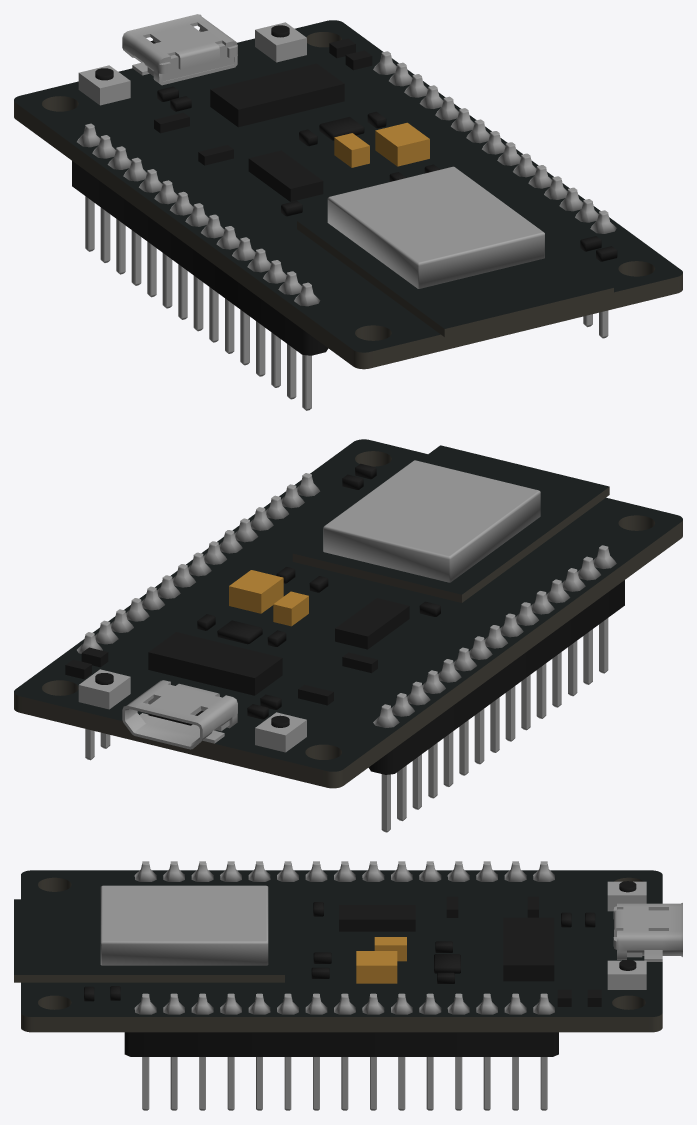
The model's file is lolin_nodemcu_v3.glb.
The picture shows the model from 3 angles, top to bottom: view 1: azimuth 30°, elevation 25°; view 2: azimuth 150°, elevation 25°; view 3: azimuth 270°, elevation 25°; orthographic projection. The views are drawn at different scales.
Parts seen in each view (by area): view 1: board, esp.001, smd, esp, pins, Cube.002, switch.001, switch.002, pin.023, pin.015, pin.026, pin.019 (+12 smaller); view 2: board, esp.001, smd, esp, pins, Cube.002, switch.002, switch.001, pin, pin.021, pin.009, pin.017 (+11 smaller); view 3: board, esp.001, esp, pins.001, smd, Cube.002, switch.002, switch.001, pin.020, pin.001, pin.029, pin.022 (+11 smaller).
Part boxes in pixels (x1,y1,x2,y2): board: (14, 20, 682, 369); esp.001: (327, 166, 544, 288); smd: (154, 38, 617, 261); esp: (297, 213, 613, 337); pins: (72, 161, 328, 355); Cube.002: (122, 14, 237, 85); switch.001: (78, 65, 130, 105); switch.002: (255, 22, 306, 62); pin.023: (123, 157, 146, 285); pin.015: (185, 203, 208, 331); pin.026: (92, 135, 115, 262); pin.019: (154, 180, 177, 308); board: (14, 439, 682, 788); esp.001: (323, 460, 540, 582); smd: (65, 463, 440, 719); esp: (292, 445, 609, 602); pins: (368, 580, 624, 774); Cube.002: (122, 680, 237, 749); switch.002: (78, 669, 130, 709); switch.001: (255, 712, 306, 752); pin: (373, 704, 399, 832); pin.021: (438, 659, 461, 786); pin.009: (531, 591, 554, 718); pin.017: (469, 636, 492, 764); board: (21, 870, 662, 1032); esp.001: (100, 885, 268, 965); esp: (14, 899, 284, 982); pins.001: (124, 1032, 558, 1056); smd: (84, 896, 601, 1006); Cube.002: (613, 903, 682, 961); switch.002: (607, 960, 646, 989); switch.001: (607, 881, 646, 911); pin.020: (419, 993, 441, 1110); pin.001: (134, 993, 156, 1110); pin.029: (533, 993, 554, 1110); pin.022: (447, 993, 469, 1110).
Size of the model in its own units: 3.1 by 1.29 by 5.97.
